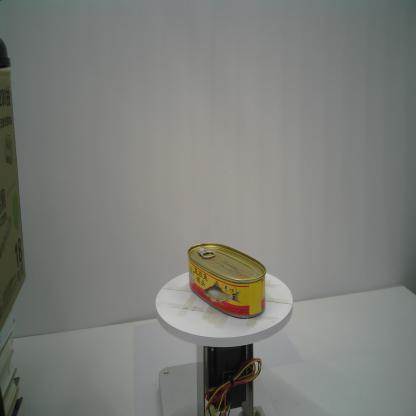Canned Food: (186, 242, 268, 320)
